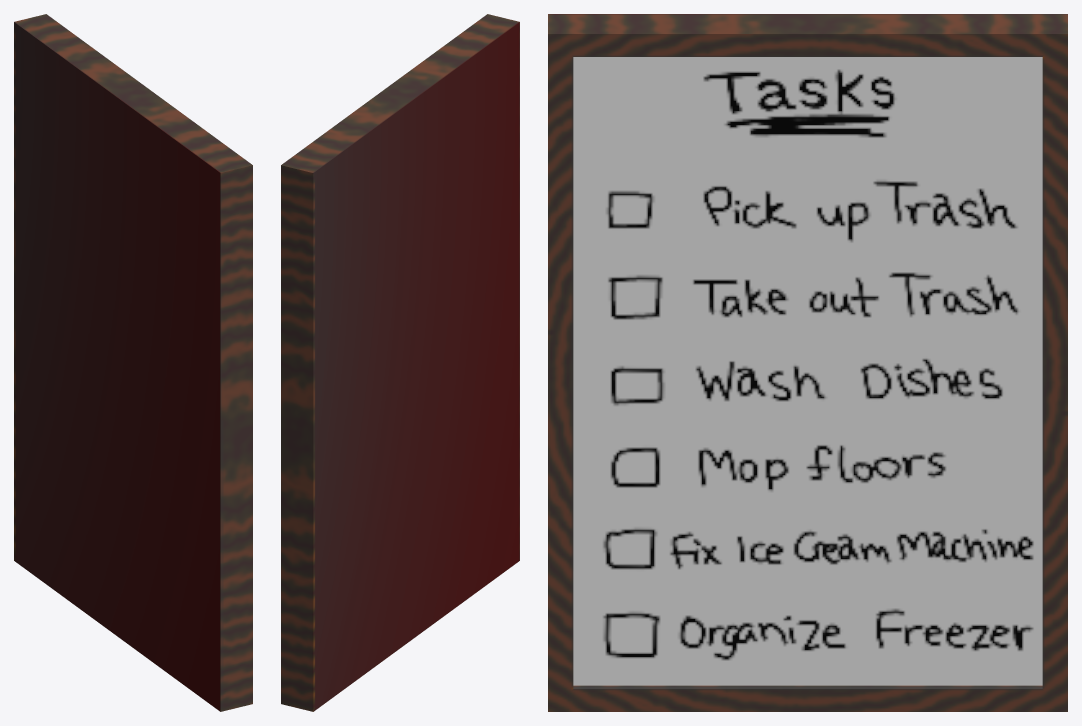
File: chore_list.fbx
3 views of the same model, side by side, from view 1: azimuth 30°, elevation 25°; view 2: azimuth 150°, elevation 25°; view 3: azimuth 270°, elevation 25° (orthographic). The views are drawn at different scales.
Visible parts, largest first — view 1: ChoreList; view 2: ChoreList; view 3: ChoreList.
Boxes of the visible parts, x1,y1,x2,y2 form: ChoreList: [14, 14, 252, 711]; ChoreList: [281, 14, 519, 711]; ChoreList: [548, 14, 1067, 711].
Bounding box in the file's own units: 2.43 × 38.56 × 26.8.
